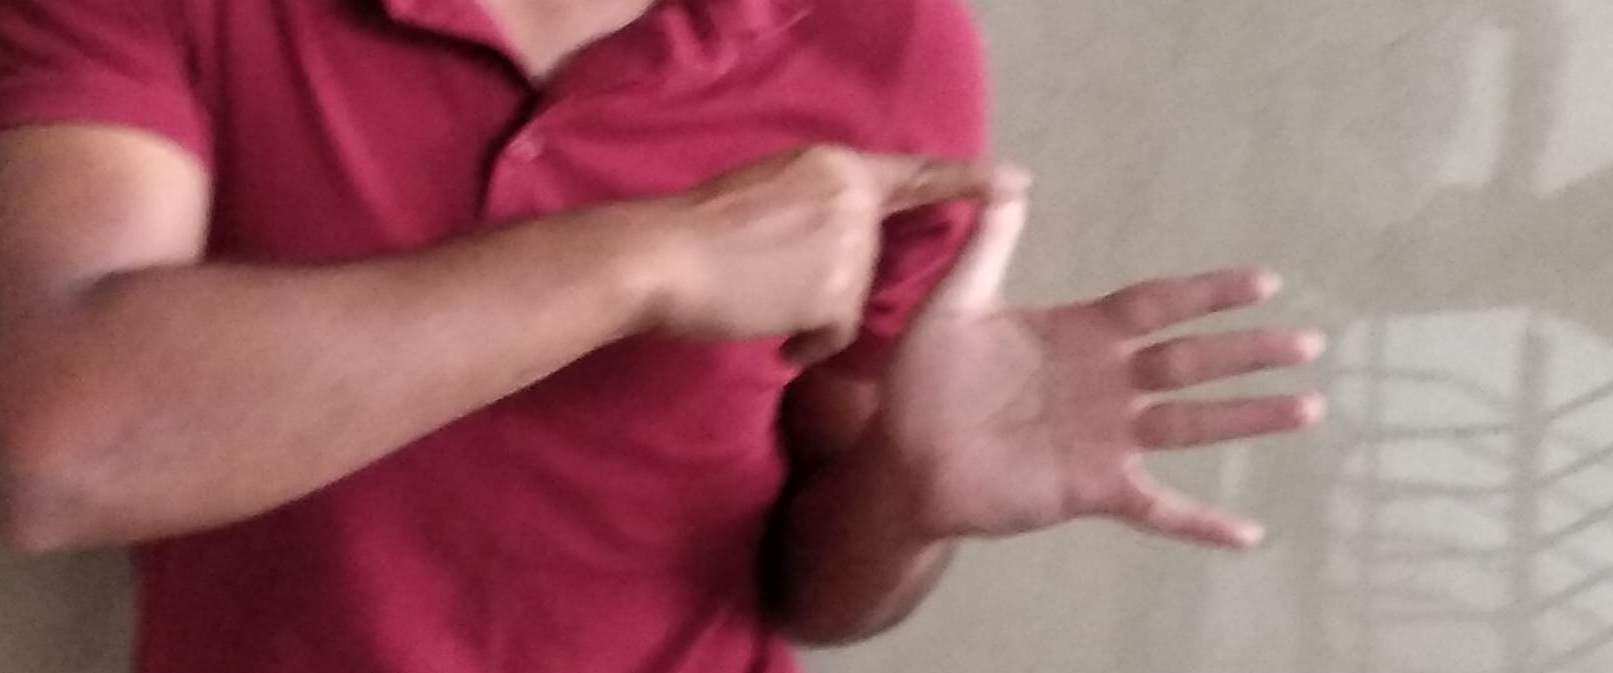a: (683, 136, 1326, 554)
